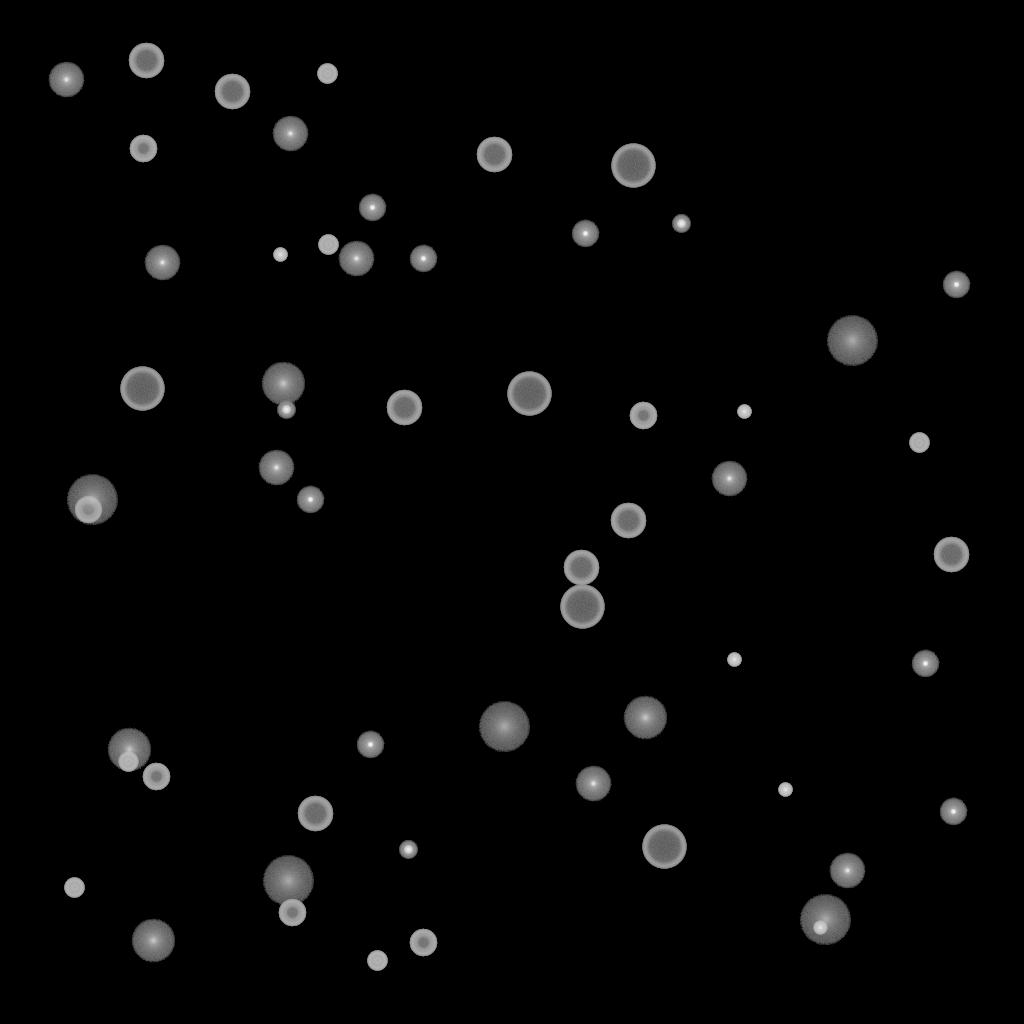depth:-10: (942, 271, 970, 299), (296, 486, 324, 514), (939, 798, 967, 826), (409, 245, 437, 273), (571, 220, 599, 248), (358, 194, 386, 222), (911, 650, 939, 678), (356, 731, 384, 759)
depth:-20: (672, 215, 690, 233), (277, 401, 295, 419), (399, 841, 417, 859)
depth:-30: (813, 921, 827, 935), (727, 653, 741, 667), (737, 405, 751, 419), (778, 783, 792, 797), (273, 248, 287, 262)
depth:-40: (64, 878, 84, 898), (317, 64, 337, 84), (909, 433, 929, 453), (318, 235, 338, 255), (118, 752, 138, 772), (367, 951, 387, 971)
depth:-50: (409, 929, 437, 957), (278, 899, 306, 927), (629, 402, 657, 430), (142, 763, 170, 791), (74, 496, 102, 524), (129, 135, 157, 163)
depth:-60: (610, 503, 646, 539), (214, 74, 250, 110), (386, 390, 422, 426), (563, 550, 599, 586), (476, 137, 512, 173), (297, 796, 333, 832), (933, 537, 969, 573), (128, 43, 164, 79)
depth:-70: (560, 585, 604, 629), (507, 372, 551, 416), (642, 825, 686, 869), (611, 144, 655, 188), (120, 367, 164, 411)
depth:0: (338, 241, 374, 277), (144, 245, 180, 281), (258, 450, 294, 486), (575, 766, 611, 802), (48, 62, 84, 98), (711, 461, 747, 497), (829, 853, 865, 889), (272, 116, 308, 152)
depth:10: (107, 728, 151, 772), (623, 696, 667, 740), (131, 919, 175, 963), (261, 362, 305, 406)
depth:20: (66, 475, 118, 525), (478, 702, 530, 752), (799, 895, 851, 945), (826, 316, 878, 366), (262, 856, 314, 906)
